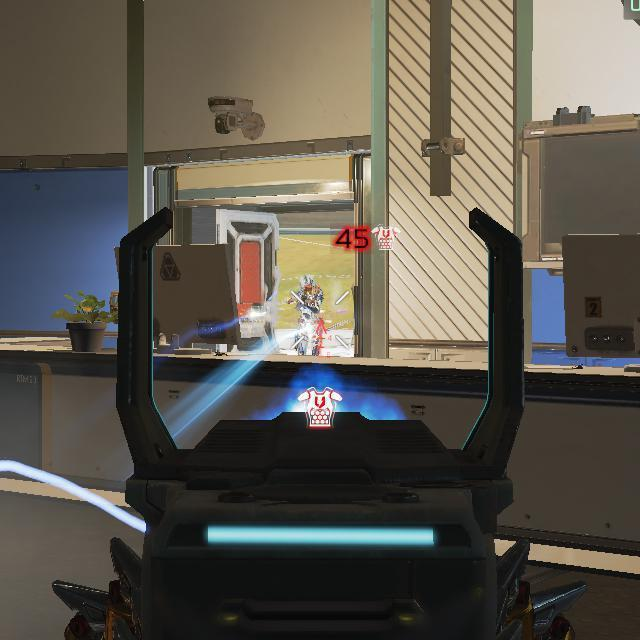avatar: (291, 272, 325, 357)
